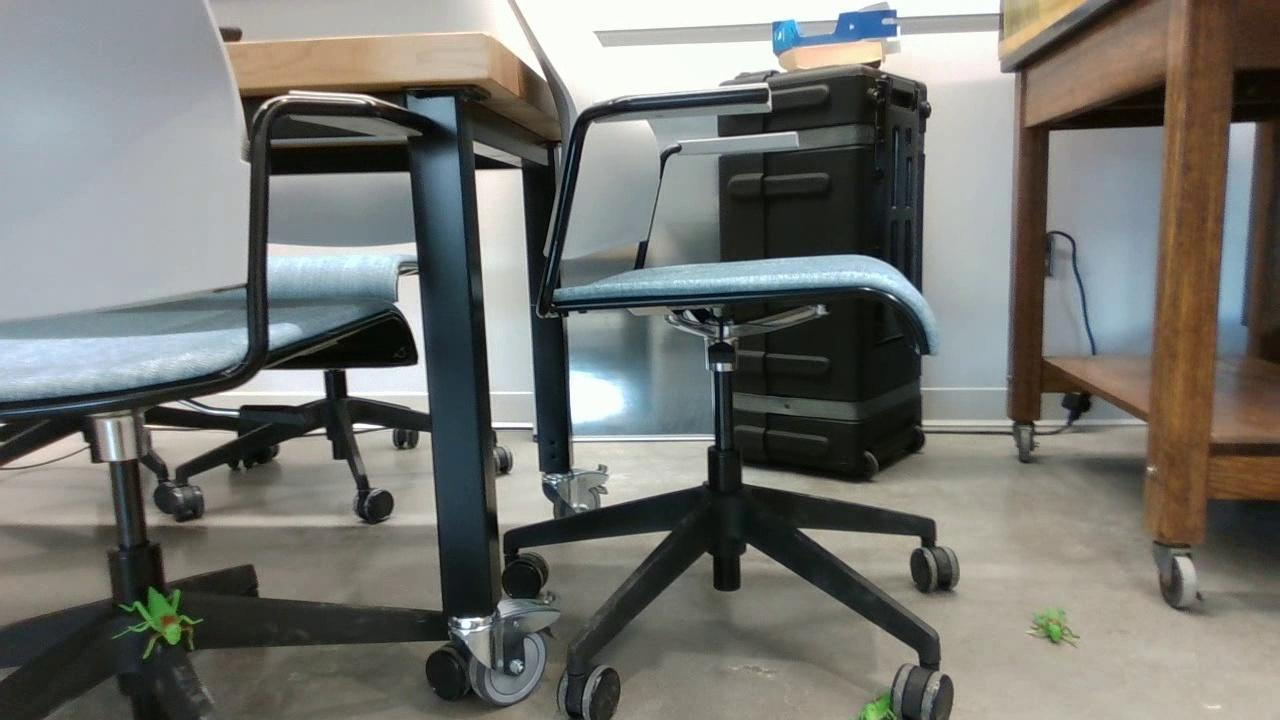grasshopper: (117, 583, 206, 653), (1026, 609, 1085, 654), (854, 690, 900, 712)
